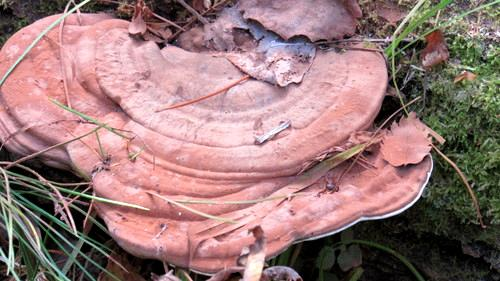Ganoderma - Fruit Body: (1, 7, 440, 276)
